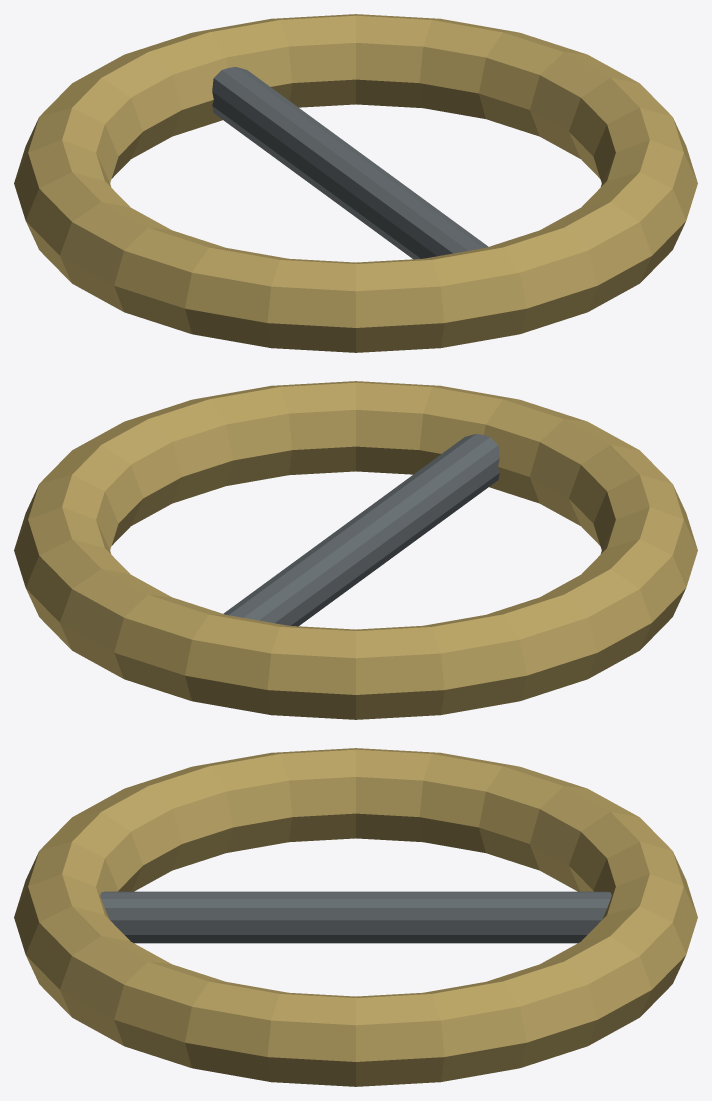
File: bell_clasp.glb
3 views of the same model, one above another, from view 1: azimuth 30°, elevation 25°; view 2: azimuth 150°, elevation 25°; view 3: azimuth 270°, elevation 25° (orthographic).
Parts seen in each view (by area): view 1: Torus.004, Clasp pin; view 2: Torus.004, Clasp pin; view 3: Torus.004, Clasp pin.
Boxes of the visible parts, x1=… form: Torus.004: x1=14, y1=14, x2=697, y2=352; Clasp pin: x1=212, y1=67, x2=488, y2=259; Torus.004: x1=14, y1=381, x2=697, y2=719; Clasp pin: x1=223, y1=434, x2=499, y2=626; Torus.004: x1=14, y1=748, x2=697, y2=1086; Clasp pin: x1=100, y1=891, x2=611, y2=943.
Size of the model in its own units: 0.128 by 0.018 by 0.128.
